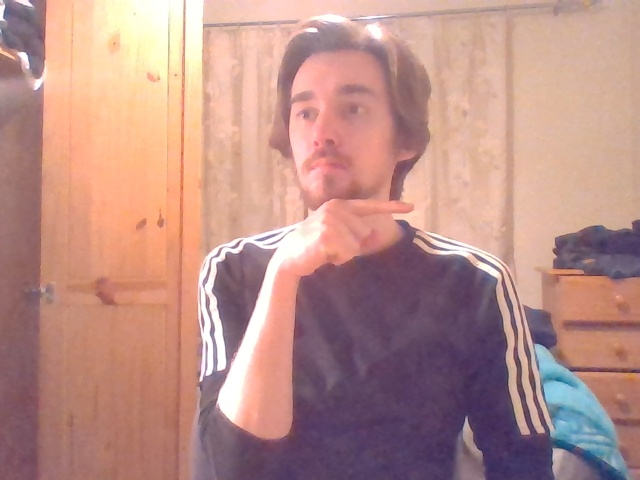son: (312, 198, 415, 265)
